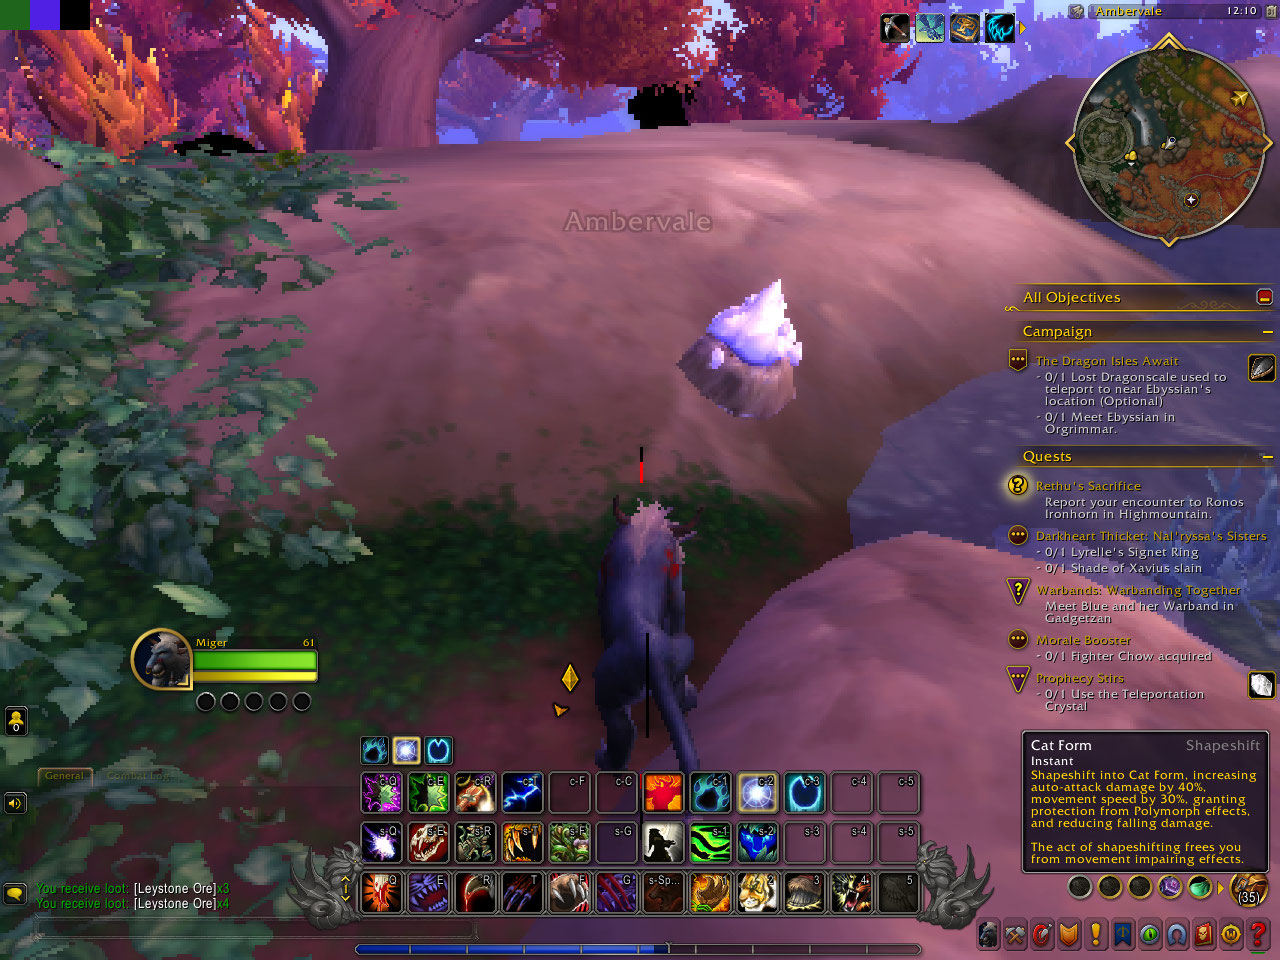ore: (670, 276, 806, 422)
